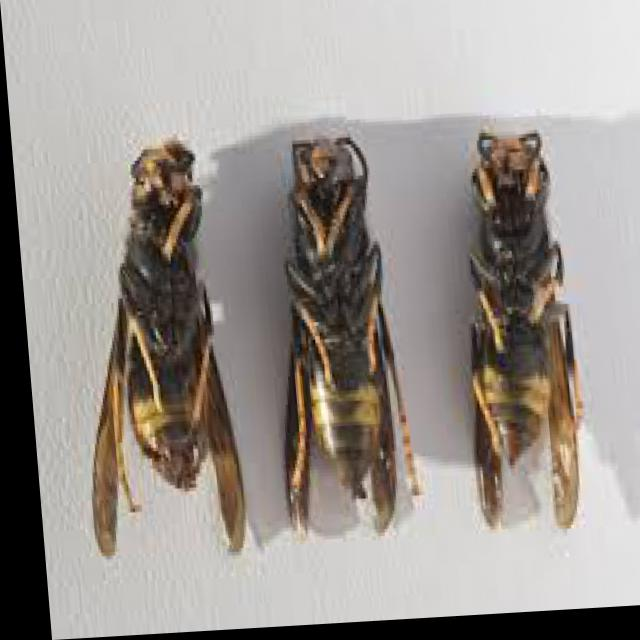Vespa Velutina: (55, 126, 254, 573), (249, 130, 418, 552), (439, 129, 589, 541)
